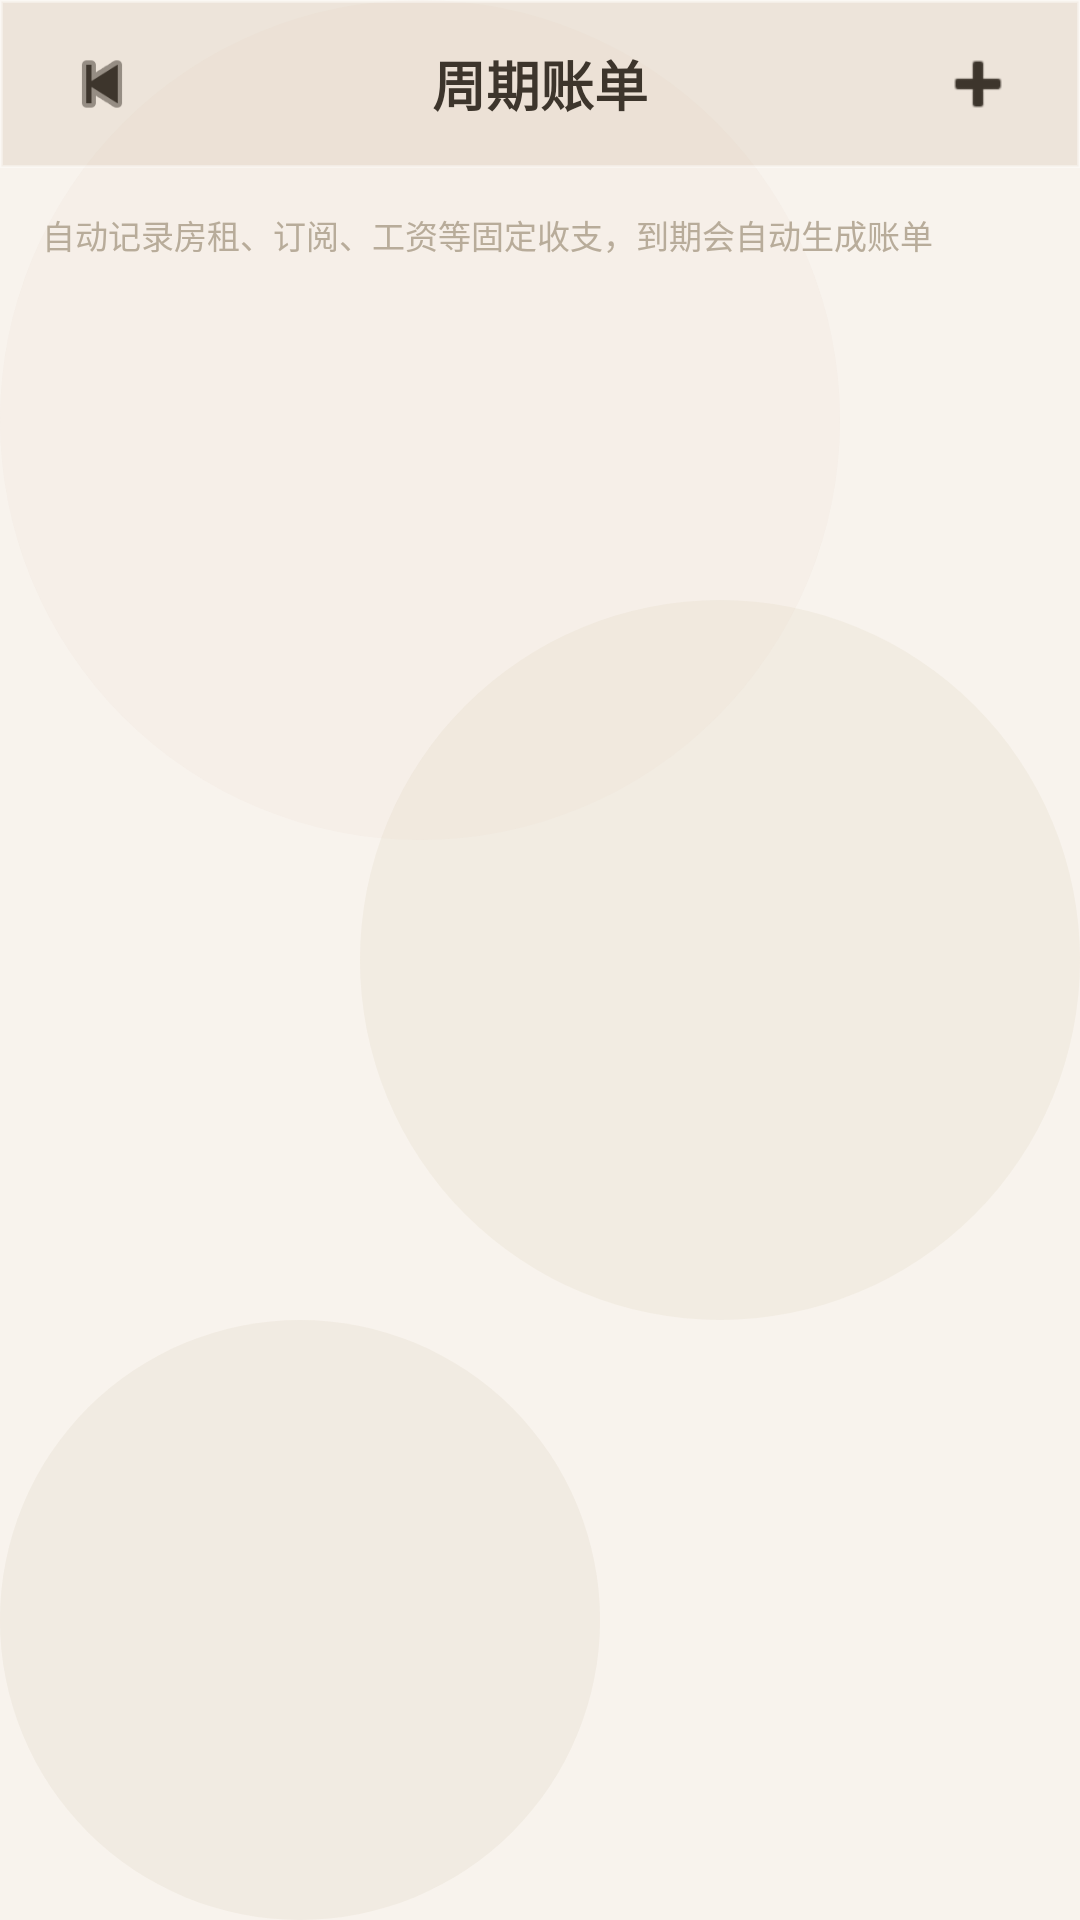

Named icons in this screenshot (1080px x 1920px) and their bounding boxes, box(x1, y1, x2, y2):
add: box(954, 60, 1002, 108)
previous: box(82, 60, 122, 108)
